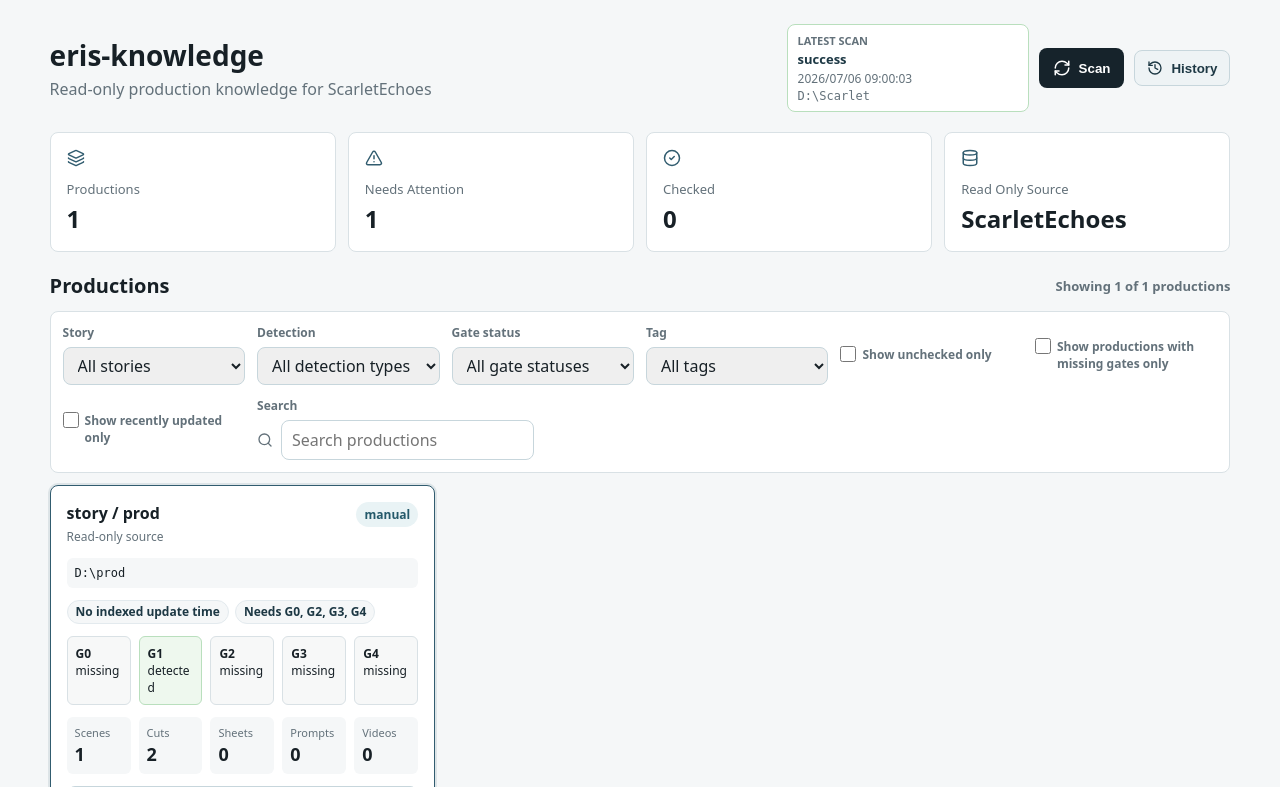
Test: App › updates the latest scan status when a scan request fails
Check: the element labelled "Latest scan" shows "success", box x1=798 y1=50 x2=847 y2=68
Step 1. Click the button with aria-label "Run scan" → (1082, 68), box x1=1039 y1=48 x2=1124 y2=88
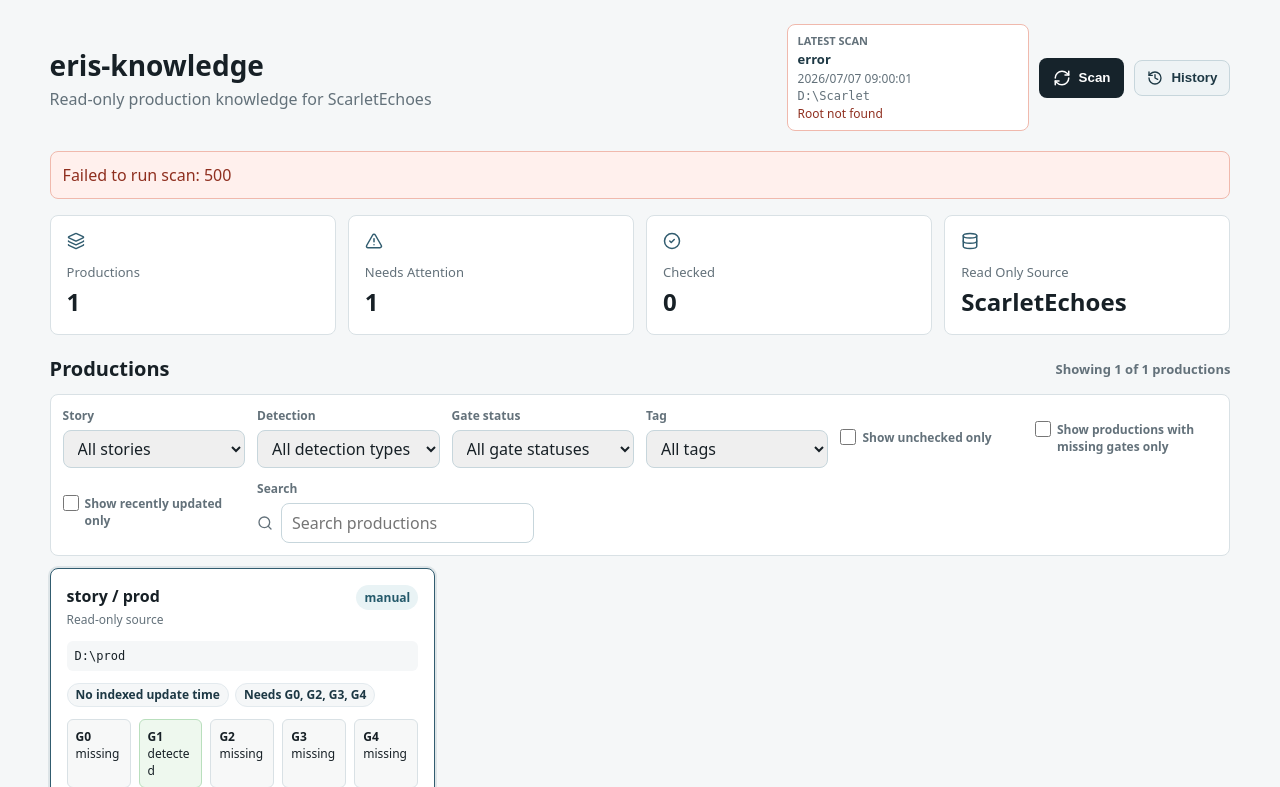
Check: the element labelled "Latest scan" shows "error", box x1=798 y1=50 x2=831 y2=68
Check: the element labelled "Latest scan" shows "Root not found", box x1=798 y1=105 x2=883 y2=122
Check: the text "Failed to run scan: 500" is shown, box x1=50 y1=151 x2=1230 y2=199
